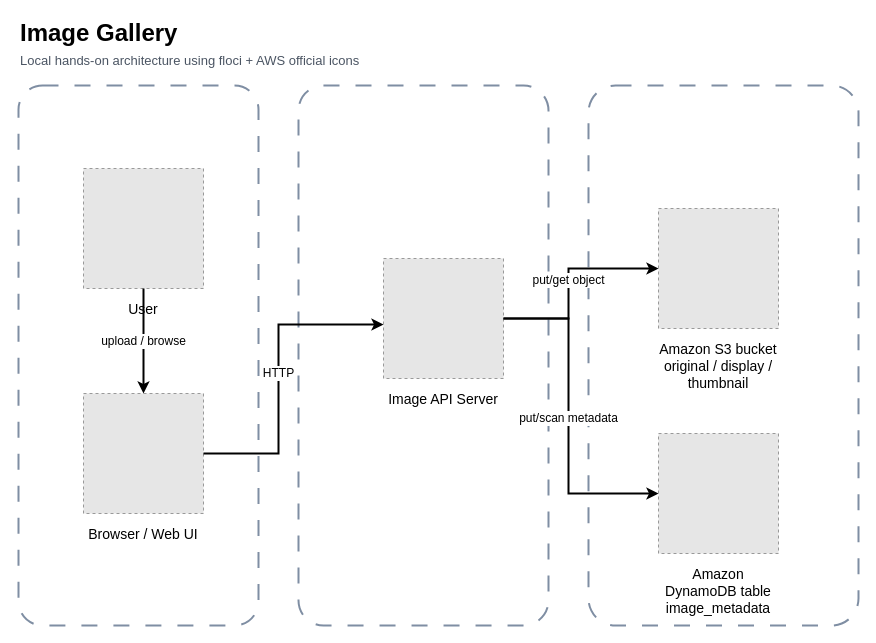
The diagram is 876 pixels wide and 643 high, and some of its shapes have lost their labels. Grey dashed boxes stand in for pictures. The box of each missing label's shape, as (x1, y1, x2, y2) in pixels:
Client: (17, 84, 259, 626)
floci endpoint / AWS local services: (587, 84, 859, 626)
Local app runtime: (297, 84, 549, 626)
